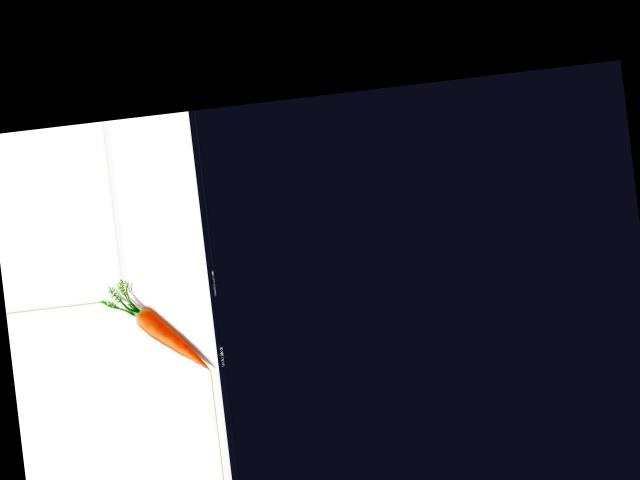carrot: (114, 291, 212, 379)
